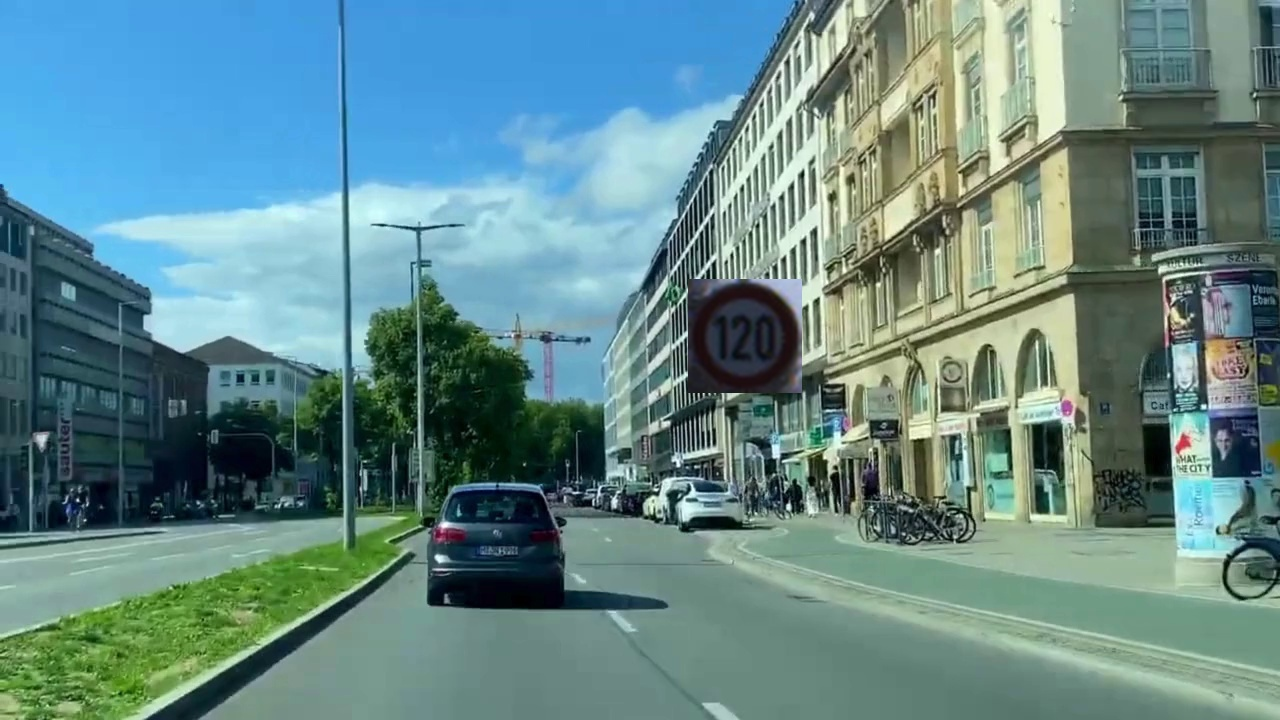Speed 120: (688, 279, 802, 393)
